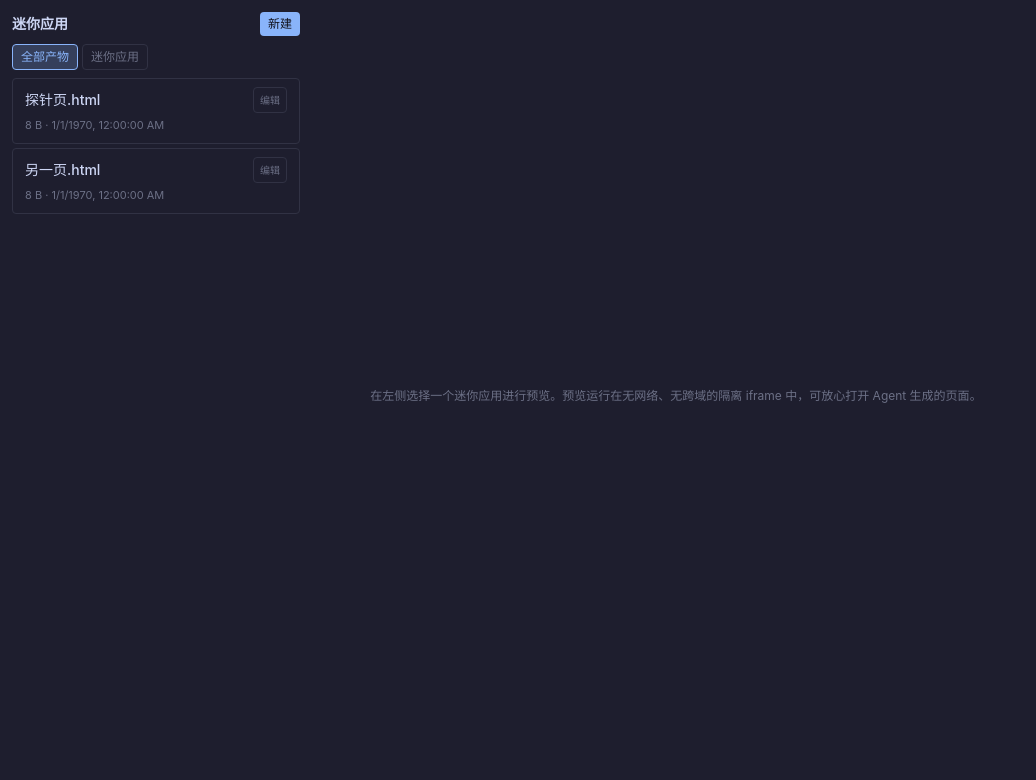
Test: §326②「设为应用」那发：三种到货要分开 › 回 null（库里已经没这条）⇒ 说那句"已经不在了"，既不报成功也不报失败原因
Check: the button "探针页.html" is shown, box [25,90,245,110]
Click the 1st button "编辑" at (270, 100), box [253,87,287,113]
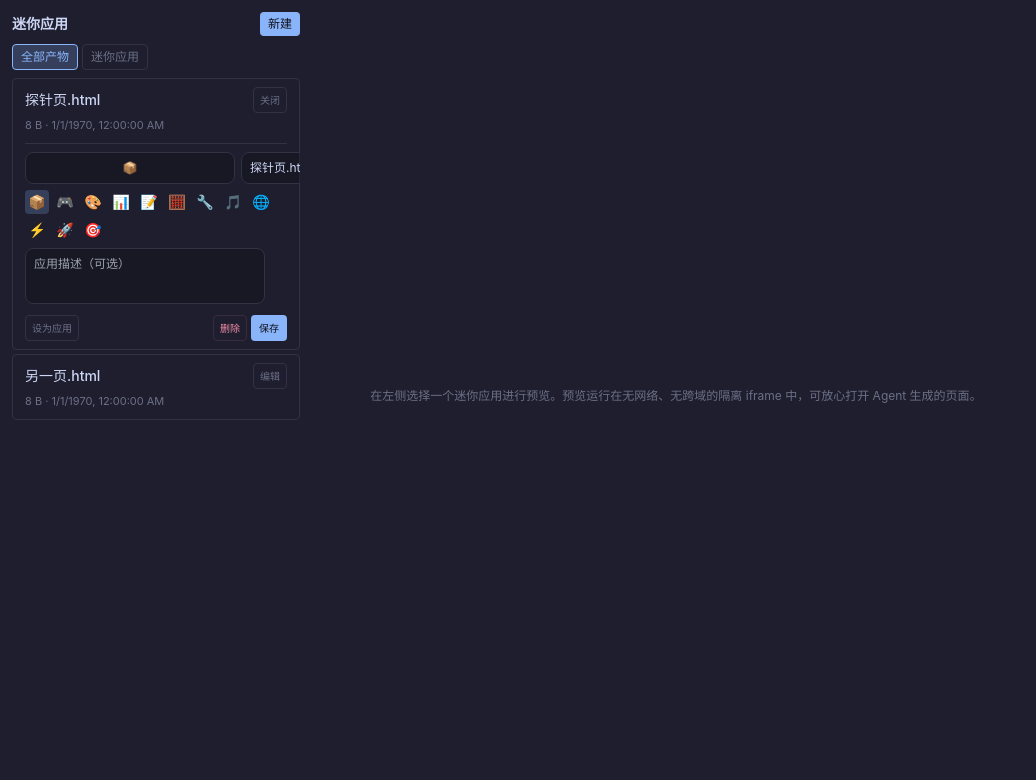
Check: the text "设为应用" is shown
Click the button "设为应用" at (52, 328), box [25,315,79,341]
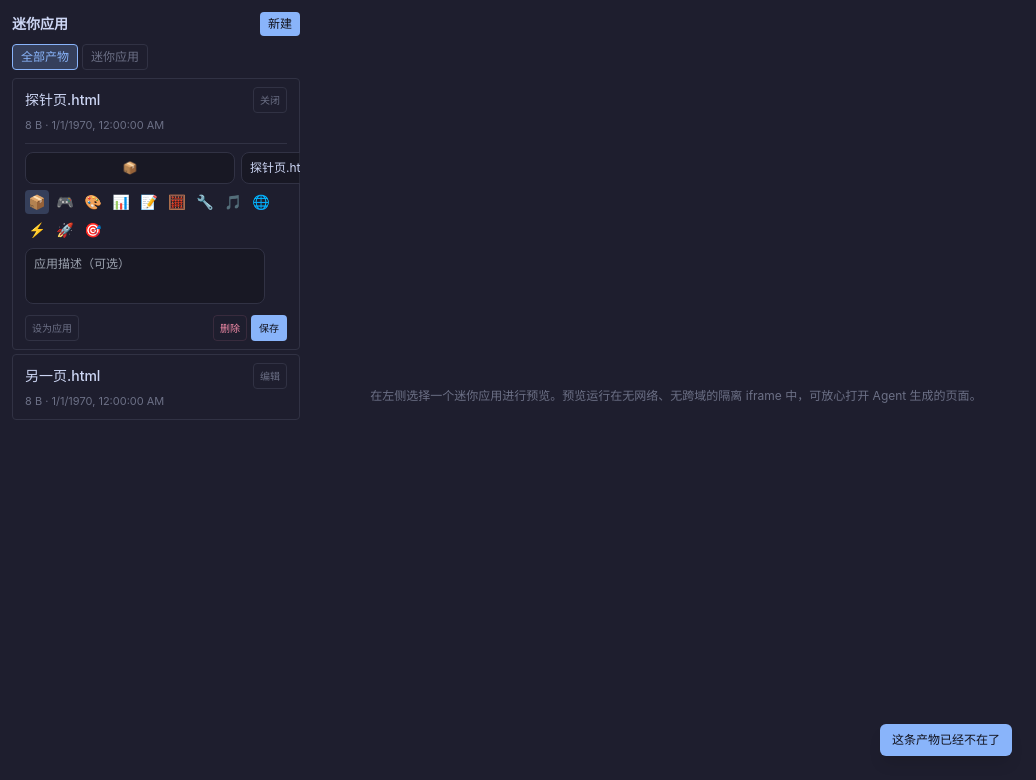
Check: the text "这条产物已经不在了" is shown, box [880,724,1012,756]
